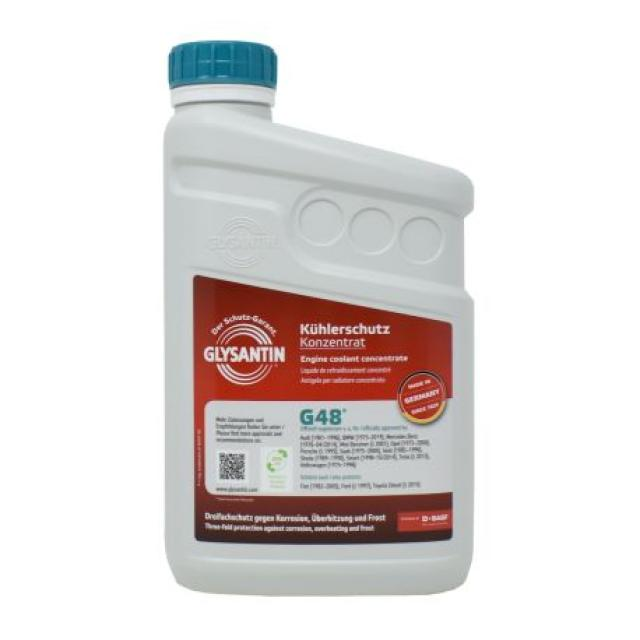coolant: (155, 36, 481, 600)
